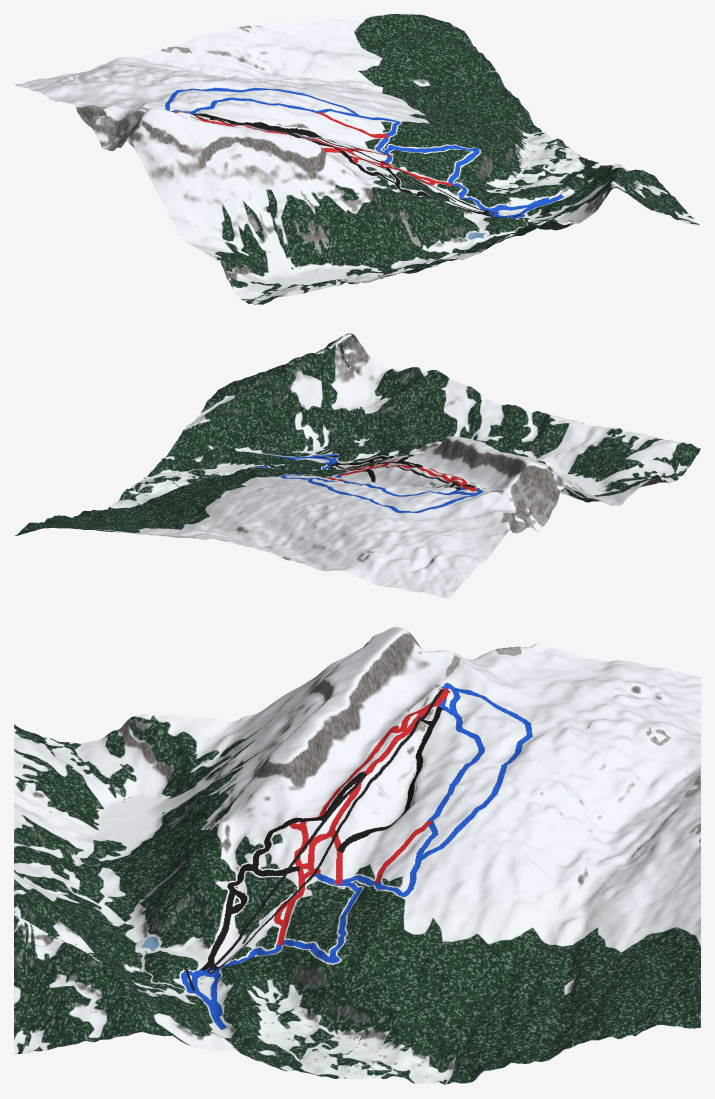
The picture shows the model from 3 angles, top to bottom: view 1: azimuth 30°, elevation 25°; view 2: azimuth 150°, elevation 25°; view 3: azimuth 270°, elevation 25°; orthographic projection. The views are drawn at different scales.
Visible parts, largest first — view 1: A4_Ifen.glb; view 2: A4_Ifen.glb; view 3: A4_Ifen.glb.
Part boxes in pixels (bbox=[...]): A4_Ifen.glb: bbox=[14, 14, 700, 304]; A4_Ifen.glb: bbox=[15, 333, 700, 598]; A4_Ifen.glb: bbox=[14, 627, 700, 1084].
Size of the model in its own units: 4437 by 1323 by 4437.
Materials: 1 (1 with a texture image).
